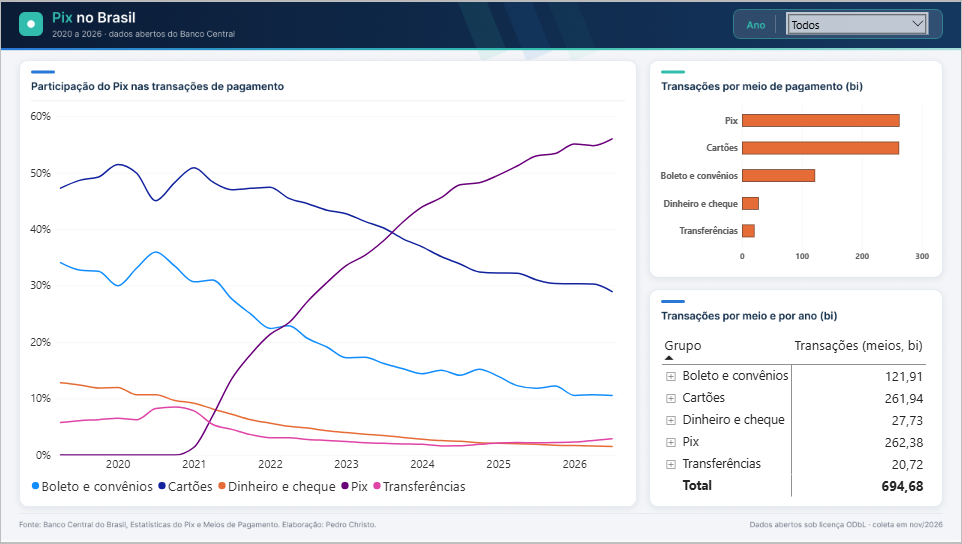

The dashboard page shown, as its layout file describes it:
{"tool":"powerbi","page":{"name":"Pix x Outros Meios","canvas":[1920,1080],"ordinal":2},"visuals":[{"type":"lineChart","title":"por Trimestre e Grupo","fields":{"Category":["dCalendario.Data"],"Series":["dMeio.Grupo"],"Y":["_Medidas.Participação nas transações"]},"box":[41.2,200,1221.2,803.8],"z":0},{"type":"barChart","fields":{"Category":["dMeio.Grupo"],"Y":["_Medidas.Transações (meios, bi)"]},"box":[1302.5,180,570,360],"z":1000},{"type":"pivotTable","fields":{"Rows":["dMeio.Grupo","dMeio.Meio"],"Values":["_Medidas.Transações (meios, bi)"]},"box":[1305.9,648.9,570,358],"z":2000},{"type":"slicer","fields":{"Values":["dCalendario.Ano"]},"box":[1570,20,285,45],"z":3000}]}

Visuals, with their boxes in screenshot pixels (x1, y1, x2, y2), scaled from the page's 1920x1080 canvas onto the 962x544 screenshot:
"por Trimestre e Grupo" lineChart: bbox=[21, 101, 633, 506]
barChart - dMeio.Grupo x _Medidas.Transações (meios, bi): bbox=[653, 91, 938, 272]
pivotTable - dMeio.Grupo x dMeio.Meio: bbox=[654, 327, 940, 507]
slicer - dCalendario.Ano: bbox=[787, 10, 929, 33]
